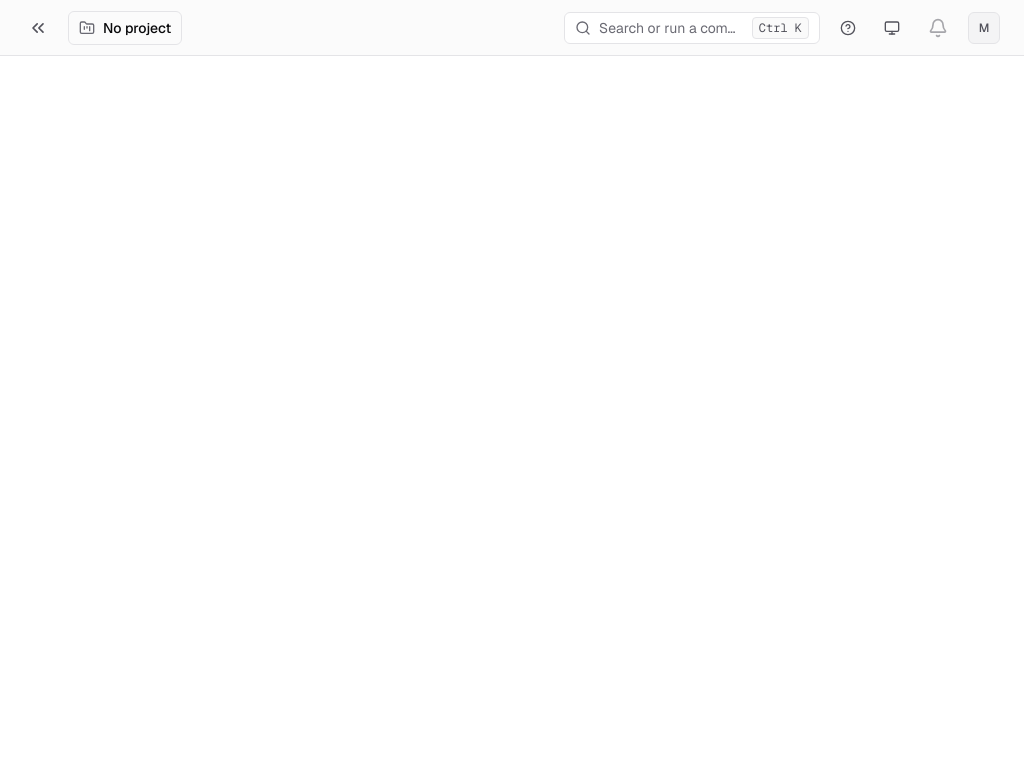
Test case: TopBar › closing the sheet opened from the Help menu returns focus to the Help button
Click the button named "Help" at (848, 28), box [832,12,864,44]
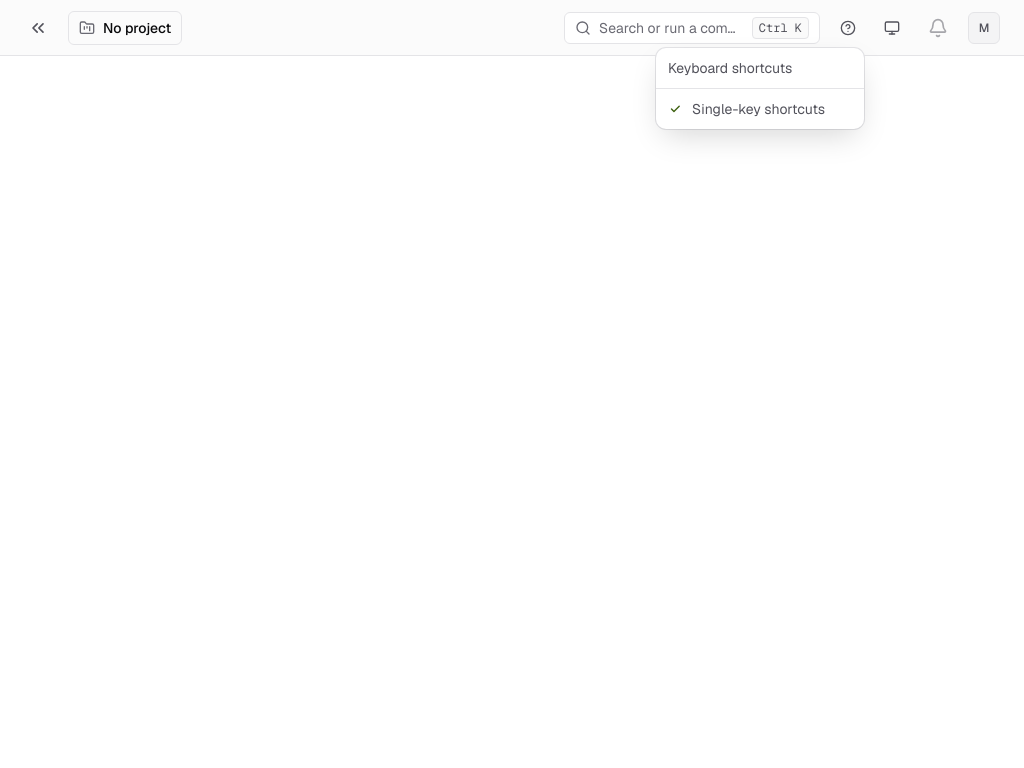
Click the menu item "Keyboard shortcuts" at (730, 68), box [668,59,792,77]
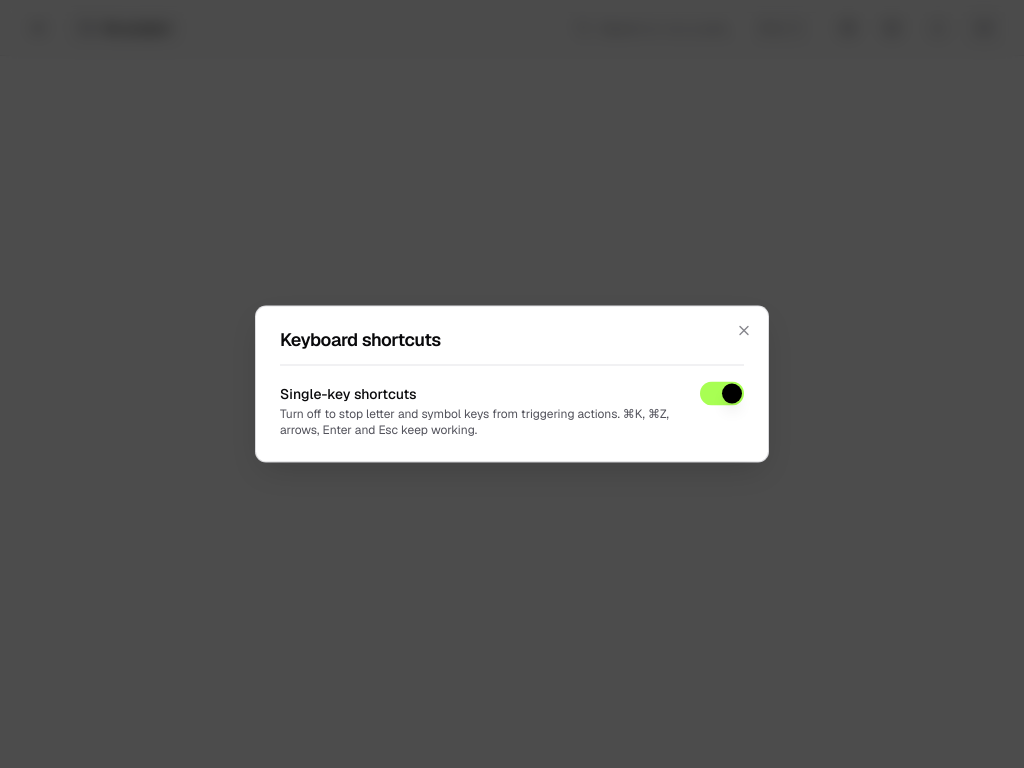
Expected: the dialog "Keyboard shortcuts" is shown, [256,306,768,462]
Press Escape
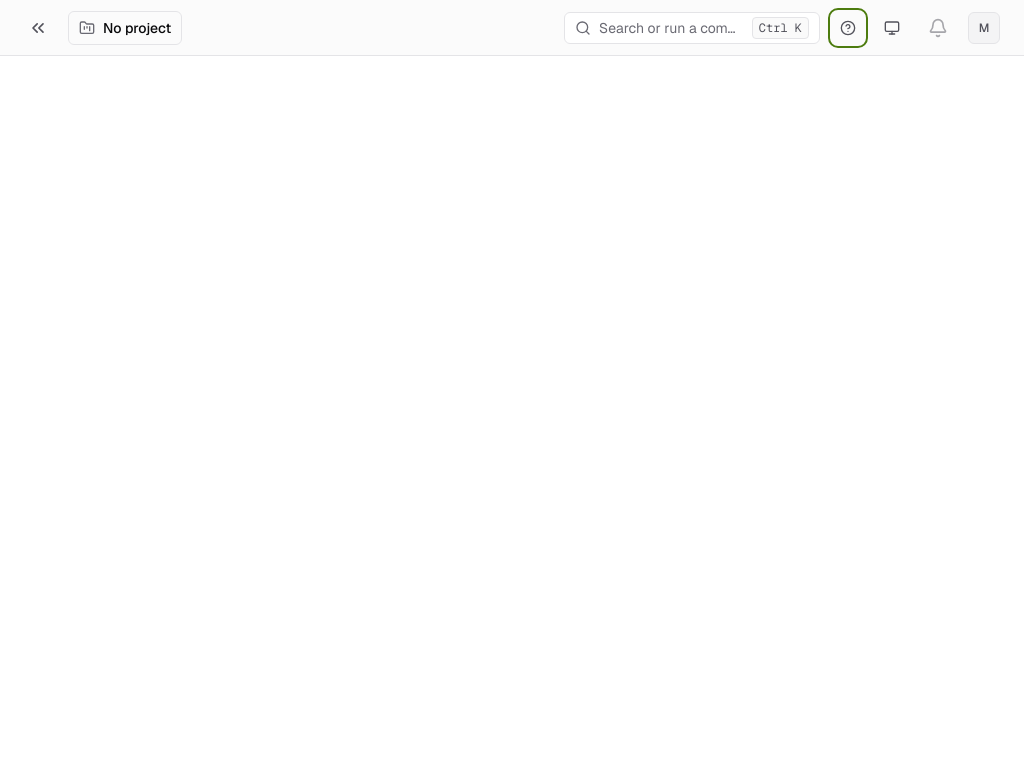
Expected: the dialog is gone
